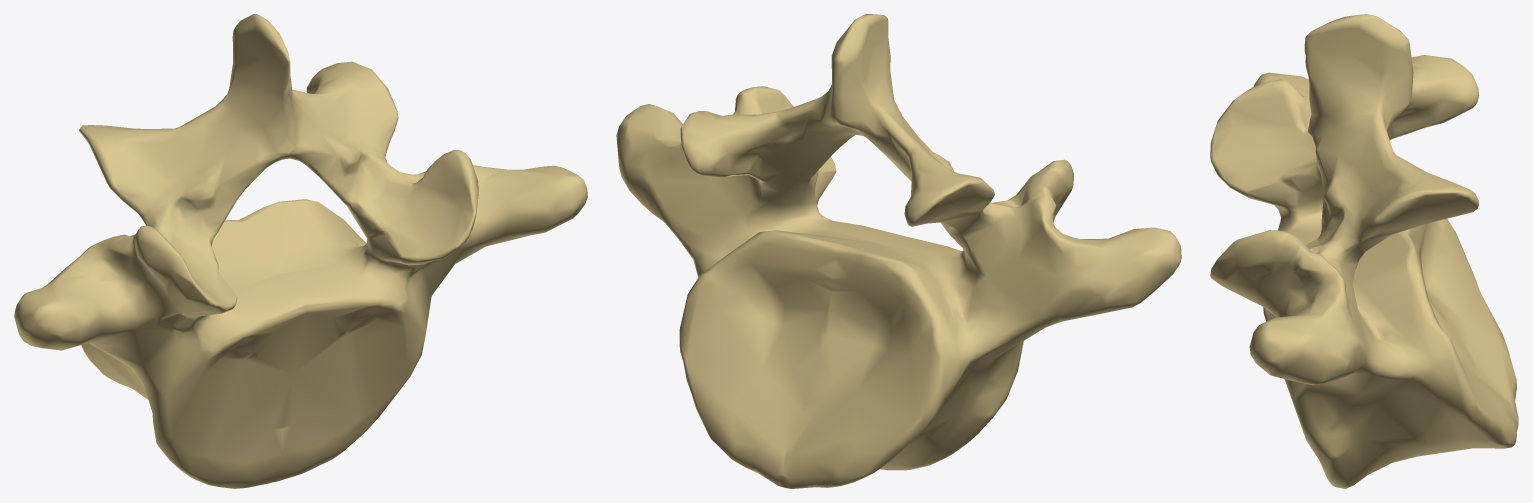
The picture shows the model from 3 angles, left to right: view 1: azimuth 30°, elevation 25°; view 2: azimuth 150°, elevation 25°; view 3: azimuth 270°, elevation 25°; orthographic projection.
Visible parts, largest first — view 1: 第五腰椎; view 2: 第五腰椎; view 3: 第五腰椎.
Part boxes in pixels (x1=…): 第五腰椎: x1=14, y1=14, x2=587, y2=488; 第五腰椎: x1=616, y1=14, x2=1181, y2=488; 第五腰椎: x1=1210, y1=14, x2=1518, y2=488.
Bounding box in the file's own units: 0.156 × 0.1219 × 0.0743.
